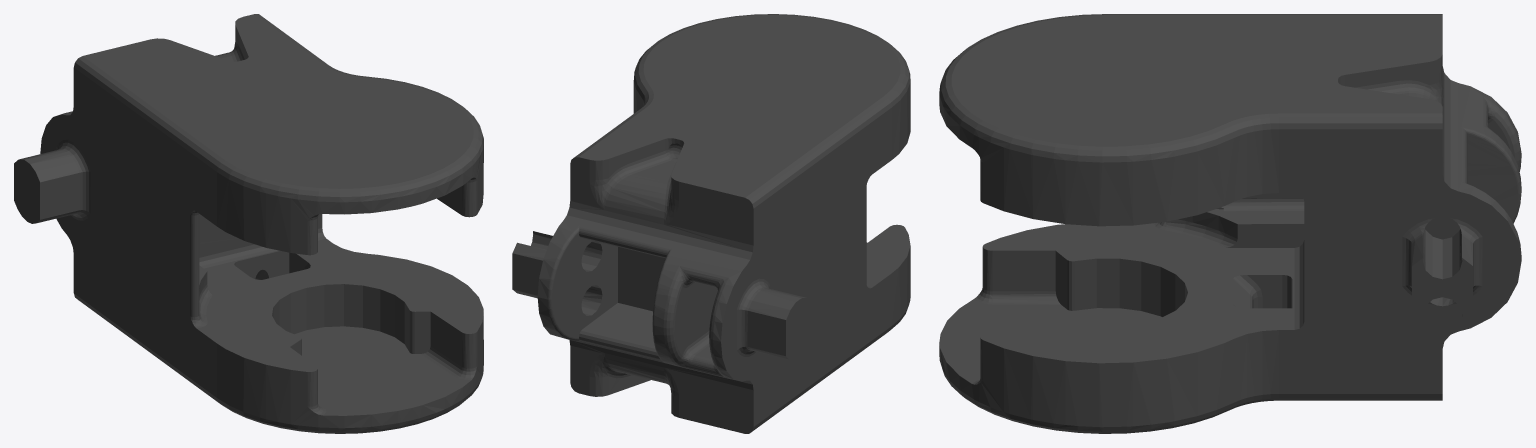
Rendered from lh_middle_metacarpals_vis.obj.
3 renders of one model, left to right at view 1: azimuth 30°, elevation 25°; view 2: azimuth 150°, elevation 25°; view 3: azimuth 270°, elevation 25°, orthographic. The views are drawn at different scales.
Visible parts, largest first — view 1: lh_middle_metacarpals; view 2: lh_middle_metacarpals; view 3: lh_middle_metacarpals.
Part boxes in pixels (box(x1,y1,x2,y2)): lh_middle_metacarpals: box(14, 14, 483, 433); lh_middle_metacarpals: box(512, 14, 910, 433); lh_middle_metacarpals: box(939, 14, 1521, 433).
Size of the model in its own units: 0.0202 by 0.016 by 0.0295.
1 material, 1 textured.
